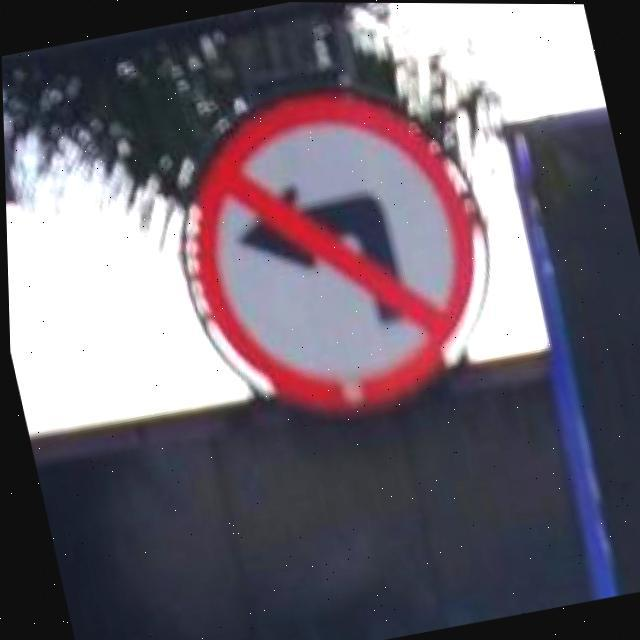Dilarang Belok Kiri: (172, 76, 506, 430)
